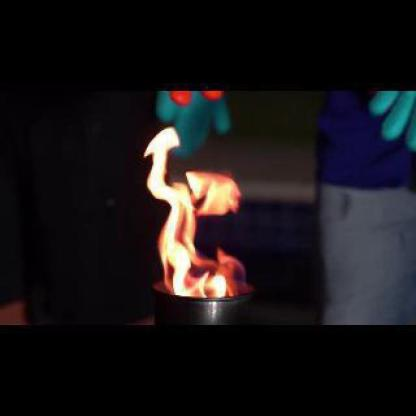fire: (138, 116, 253, 298)
